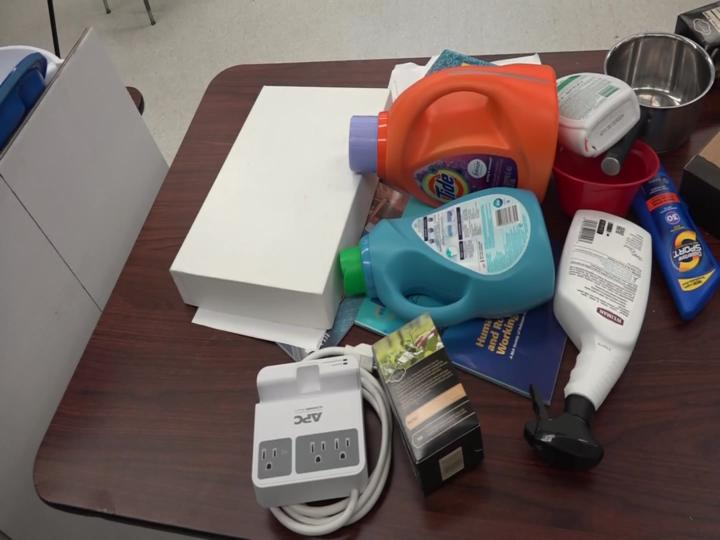downy: (324, 177, 561, 330)
